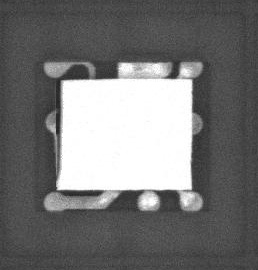DIE_BROKEN: (53, 75, 66, 180)
